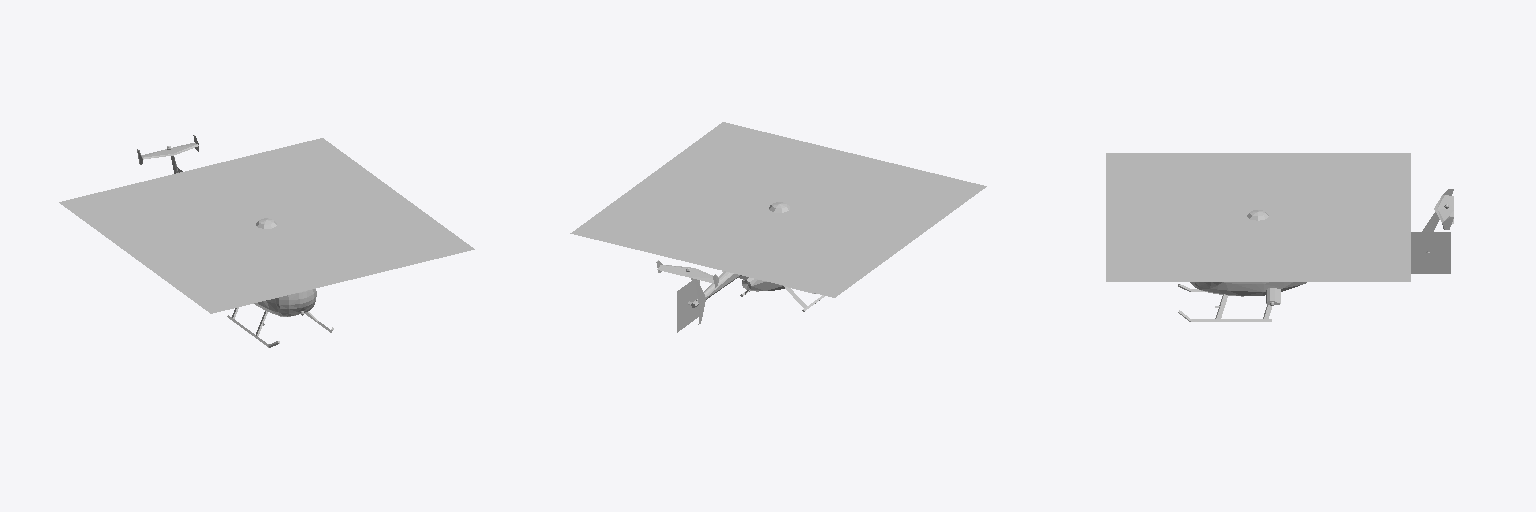
The picture shows the model from 3 angles: view 1: azimuth 30°, elevation 25°; view 2: azimuth 150°, elevation 25°; view 3: azimuth 270°, elevation 25°; orthographic projection.
Visible parts, largest first — view 1: md501; view 2: md501; view 3: md501.
Boxes of the visible parts, box(x1,y1,x2,y2) form: md501: box(59, 135, 474, 347); md501: box(570, 122, 986, 332); md501: box(1106, 153, 1453, 321).
Size of the model in its own units: 10 by 3.74 by 11.42.